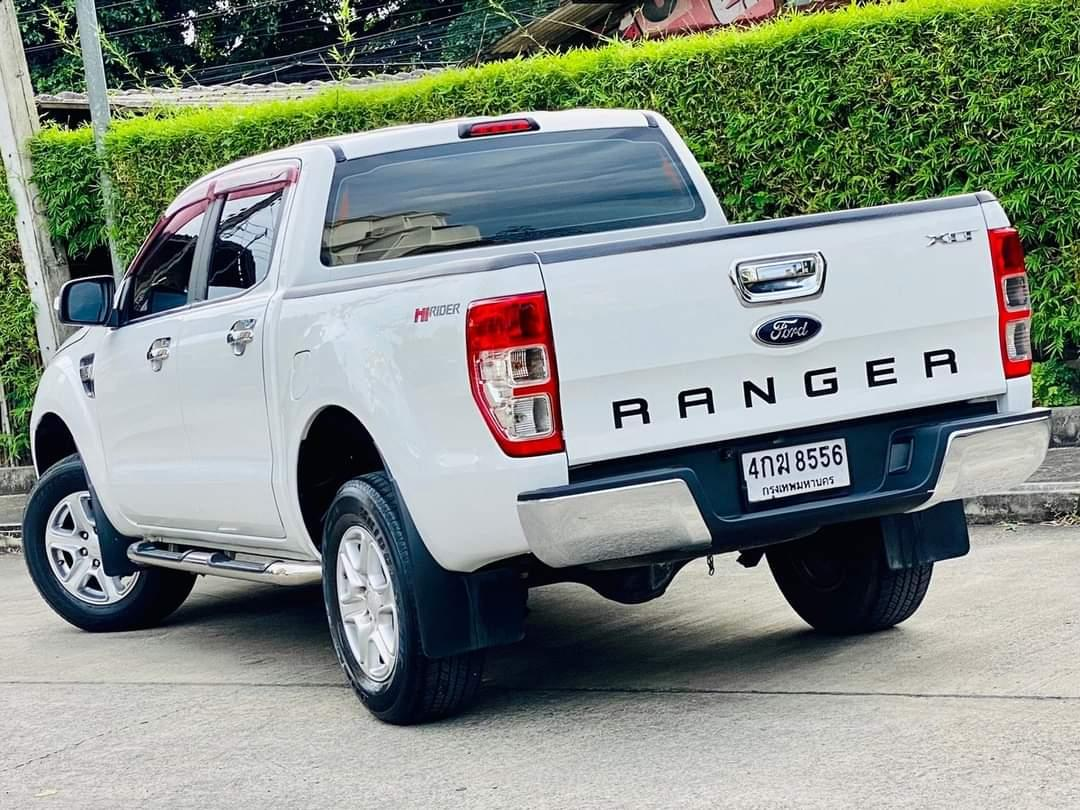license-plate: (736, 431, 857, 510)
